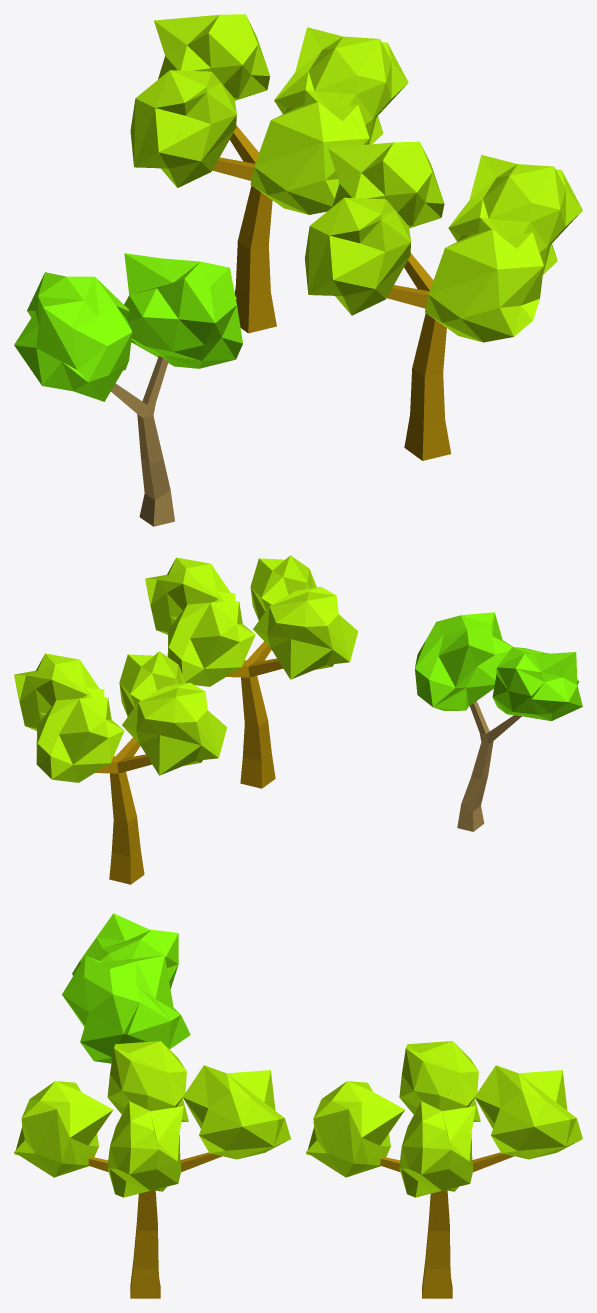
File: Trees.fbx
The picture shows the model from 3 angles, top to bottom: view 1: azimuth 30°, elevation 25°; view 2: azimuth 150°, elevation 25°; view 3: azimuth 270°, elevation 25°; orthographic projection. The views are drawn at different scales.
Parts seen in each view (by area): view 1: Tree_2, Tree_1, Tree_2_cell.012, Tree_2_cell.004, Tree_2_cell.011, Tree_2_cell.024, Tree_2_cell.023, Tree_2_cell.020, Tree_2_cell.001, Tree_2_cell.002, Tree_2_cell.009, Tree_2_cell.031 (+6 smaller); view 2: Tree_2, Tree_1, Tree_2_cell.012, Tree_2_cell.016, Tree_2_cell.011, Tree_2_cell.001, Tree_2_cell.022, Tree_2_cell.004, Tree_2_cell.009, Tree_2_cell.017, Tree_2_cell.021, Tree_2_cell.018 (+4 smaller); view 3: Tree_2, Tree_1, Tree_2_cell.006, Tree_2_cell.031, Tree_2_cell.021, Tree_2_cell.011, Tree_2_cell.008, Tree_2_cell.015, Tree_2_cell.024, Tree_2_cell.016, Tree_2_cell.009, Tree_2_cell.010 (+9 smaller).
Boxes of the visible parts, <box> form: Tree_2: <box>304,141,582,460</box>; Tree_1: <box>14,253,242,526</box>; Tree_2_cell.012: <box>130,70,200,175</box>; Tree_2_cell.004: <box>158,16,248,82</box>; Tree_2_cell.011: <box>234,223,276,333</box>; Tree_2_cell.024: <box>338,36,401,100</box>; Tree_2_cell.023: <box>300,107,364,212</box>; Tree_2_cell.020: <box>161,112,218,187</box>; Tree_2_cell.001: <box>274,27,345,100</box>; Tree_2_cell.002: <box>257,149,319,214</box>; Tree_2_cell.009: <box>256,102,334,162</box>; Tree_2_cell.031: <box>188,70,236,152</box>; Tree_2: <box>145,555,358,788</box>; Tree_1: <box>415,612,582,831</box>; Tree_2_cell.012: <box>155,686,227,769</box>; Tree_2_cell.016: <box>122,702,173,775</box>; Tree_2_cell.011: <box>109,807,144,884</box>; Tree_2_cell.001: <box>39,658,103,703</box>; Tree_2_cell.022: <box>42,714,92,782</box>; Tree_2_cell.004: <box>82,697,124,770</box>; Tree_2_cell.009: <box>132,651,182,696</box>; Tree_2_cell.017: <box>75,718,103,770</box>; Tree_2_cell.021: <box>14,666,47,716</box>; Tree_2_cell.018: <box>108,745,131,809</box>; Tree_2: <box>14,1041,290,1298</box>; Tree_1: <box>62,913,190,1063</box>; Tree_2_cell.006: <box>308,1105,374,1177</box>; Tree_2_cell.031: <box>402,1046,460,1108</box>; Tree_2_cell.021: <box>416,1118,472,1180</box>; Tree_2_cell.011: <box>422,1213,452,1298</box>; Tree_2_cell.008: <box>495,1071,561,1129</box>; Tree_2_cell.015: <box>519,1108,582,1154</box>; Tree_2_cell.024: <box>401,1104,447,1174</box>; Tree_2_cell.016: <box>439,1059,480,1122</box>; Tree_2_cell.009: <box>333,1081,395,1115</box>; Tree_2_cell.010: <box>472,1113,556,1172</box>.
Bounding box in the file's own units: 7028 × 3238 × 7401.
